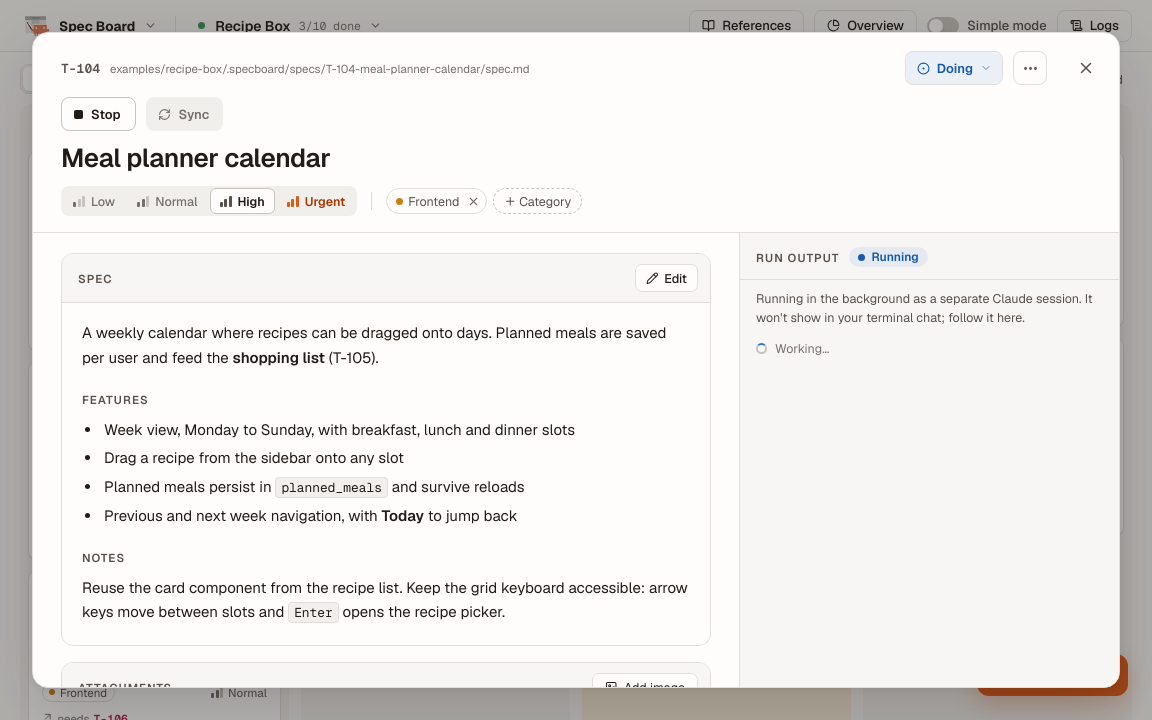
Test: the Run button, from the run state › Stop with the network gone shows the offline toast
Click the button "Stop".
click(98, 114)  # box left=61, top=97, right=136, bottom=131
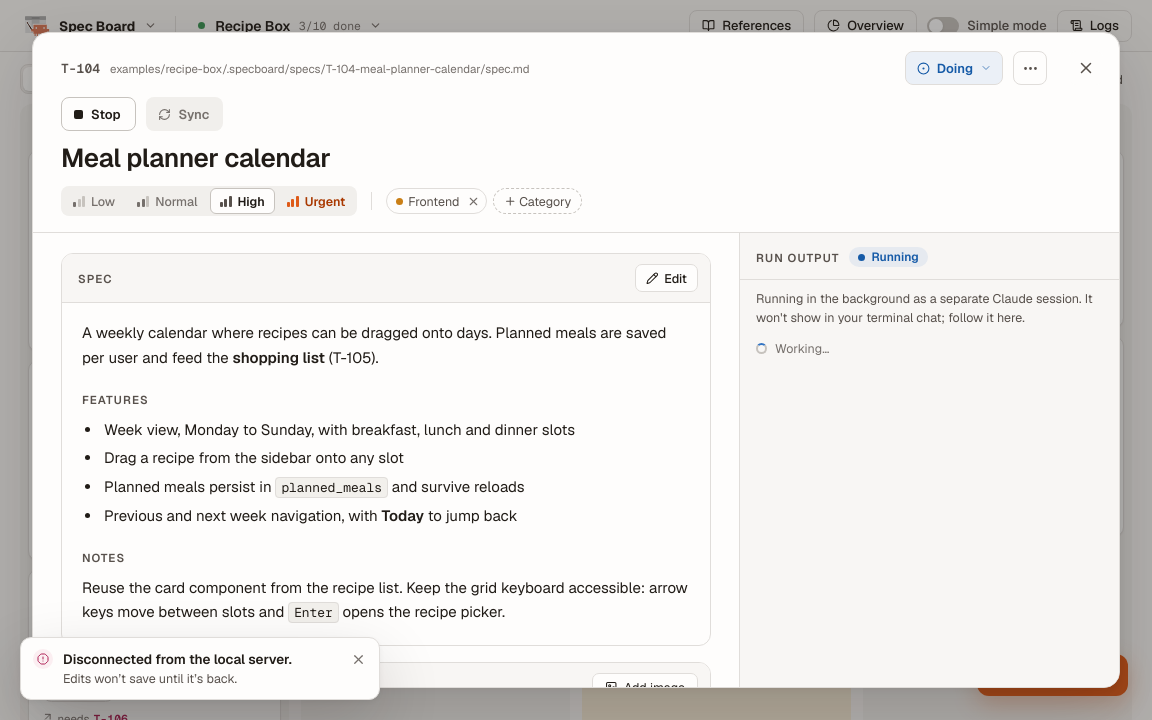
Now the text "Edits won’t save until it’s back." is shown once, box left=63, top=670, right=237, bottom=687
